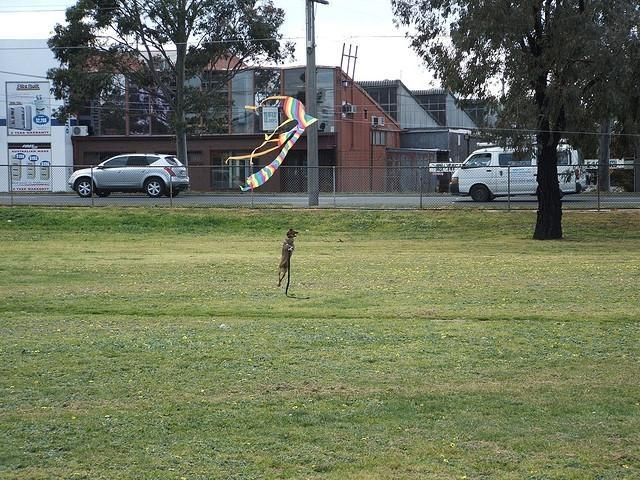car: (446, 143, 588, 205), (68, 155, 190, 198)
